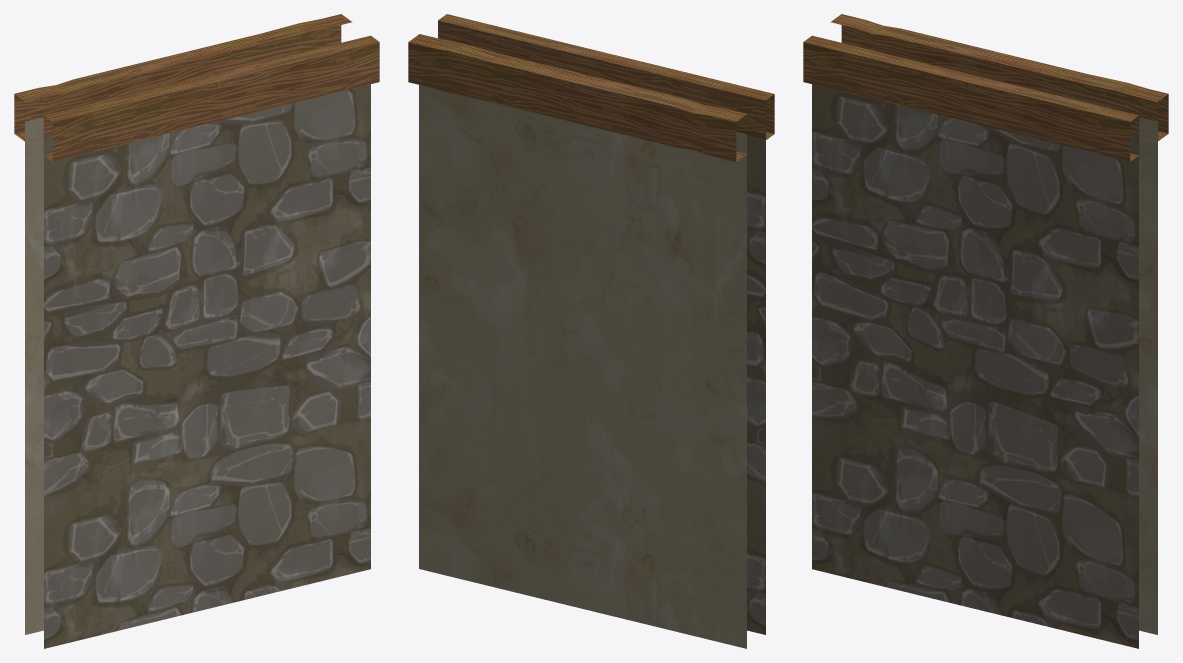
The picture shows the model from 3 angles, left to right: view 1: azimuth 30°, elevation 25°; view 2: azimuth 150°, elevation 25°; view 3: azimuth 330°, elevation 25°; orthographic projection.
Parts seen in each view (by area): view 1: fbe8d2c469d027a6f4aa66913d8e35492536b6333d24f11455d3cb7ffd6b; view 2: fbe8d2c469d027a6f4aa66913d8e35492536b6333d24f11455d3cb7ffd6b; view 3: fbe8d2c469d027a6f4aa66913d8e35492536b6333d24f11455d3cb7ffd6b.
Part boxes in pixels (x1,y1,x2,y2): fbe8d2c469d027a6f4aa66913d8e35492536b6333d24f11455d3cb7ffd6b: (14,14,379,648); fbe8d2c469d027a6f4aa66913d8e35492536b6333d24f11455d3cb7ffd6b: (408,14,774,648); fbe8d2c469d027a6f4aa66913d8e35492536b6333d24f11455d3cb7ffd6b: (803,14,1168,648).
Bounding box in the file's own units: 2 × 3.12 × 0.4065.
3 materials, 3 textured.
